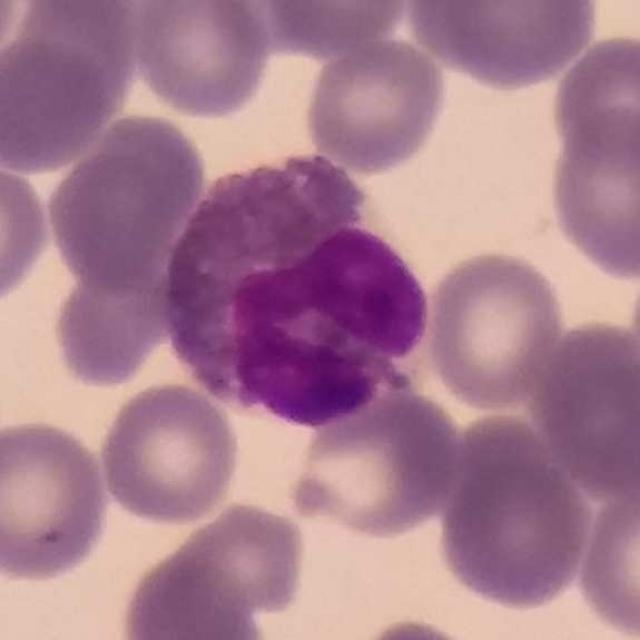Eosinophil: (162, 148, 438, 418)
RBC: (432, 418, 596, 614), (42, 109, 210, 296), (284, 380, 465, 542), (421, 245, 568, 414), (96, 378, 245, 529), (299, 34, 450, 174), (530, 316, 640, 501), (154, 498, 310, 628), (0, 414, 114, 587), (404, 0, 603, 92), (128, 0, 275, 121), (0, 31, 120, 176), (543, 105, 640, 282), (48, 252, 170, 392), (116, 550, 270, 640), (546, 28, 640, 170), (573, 476, 640, 640), (0, 155, 55, 315), (258, 0, 413, 55), (347, 613, 498, 640), (625, 246, 640, 407), (0, 1, 26, 74)
